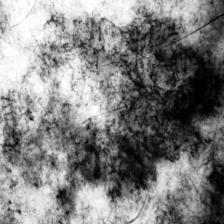Benign Marking or Mole: (4, 8, 218, 209)
